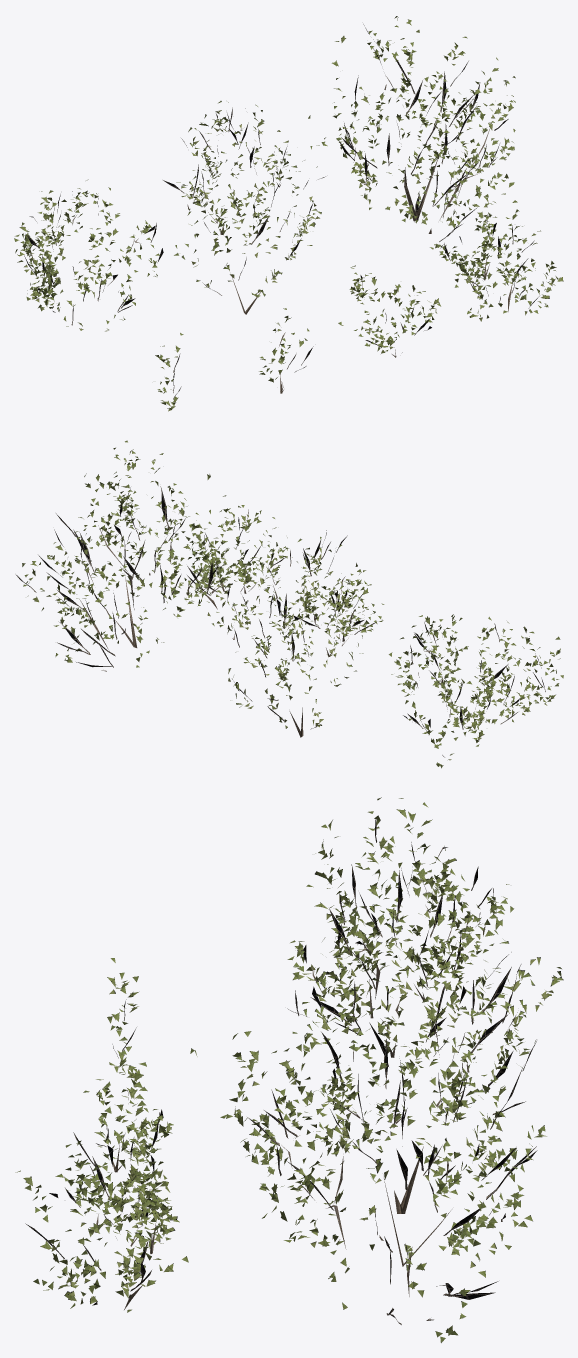
The model's file is bush.glb.
3 renders of one model, top to bottom at view 1: azimuth 30°, elevation 25°; view 2: azimuth 150°, elevation 25°; view 3: azimuth 270°, elevation 25°, orthographic. The views are drawn at different scales.
Parts seen in each view (by area): view 1: searsia_lucida_a_LOD0, searsia_lucida_c_LOD0, searsia_lucida_b_LOD0, searsia_lucida_d_LOD0, searsia_lucida_e_LOD0, searsia_lucida_f_LOD0; view 2: searsia_lucida_a_LOD0, searsia_lucida_c_LOD0, searsia_lucida_b_LOD0, searsia_lucida_d_LOD0, searsia_lucida_e_LOD0, searsia_lucida_f_LOD0; view 3: searsia_lucida_a_LOD0, searsia_lucida_b_LOD0, searsia_lucida_c_LOD0, searsia_lucida_d_LOD0, searsia_lucida_e_LOD0, searsia_lucida_f_LOD0, searsia_lucida_g_LOD0.
Part boxes in pixels (x1,y1,x2,y2): searsia_lucida_a_LOD0: (308, 16, 515, 249); searsia_lucida_c_LOD0: (14, 179, 188, 331); searsia_lucida_b_LOD0: (163, 101, 325, 314); searsia_lucida_d_LOD0: (434, 184, 563, 321); searsia_lucida_e_LOD0: (338, 265, 440, 357); searsia_lucida_f_LOD0: (259, 308, 313, 393); searsia_lucida_a_LOD0: (15, 440, 262, 671); searsia_lucida_c_LOD0: (389, 614, 553, 768); searsia_lucida_b_LOD0: (207, 530, 374, 737); searsia_lucida_d_LOD0: (176, 495, 287, 621); searsia_lucida_e_LOD0: (288, 569, 384, 641); searsia_lucida_f_LOD0: (411, 615, 468, 684); searsia_lucida_a_LOD0: (190, 944, 546, 1342); searsia_lucida_b_LOD0: (287, 864, 563, 1213); searsia_lucida_c_LOD0: (287, 797, 513, 1063); searsia_lucida_d_LOD0: (15, 1101, 188, 1312); searsia_lucida_e_LOD0: (49, 1065, 173, 1232); searsia_lucida_f_LOD0: (83, 1062, 153, 1172); searsia_lucida_g_LOD0: (107, 958, 138, 1077).
Bounding box in the file's own units: 4.61 × 2.21 × 2.79.
2 materials, 2 textured.
